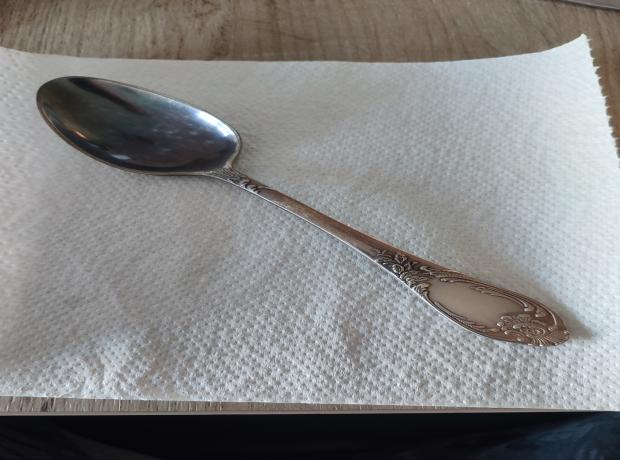metal: (34, 76, 574, 346)
